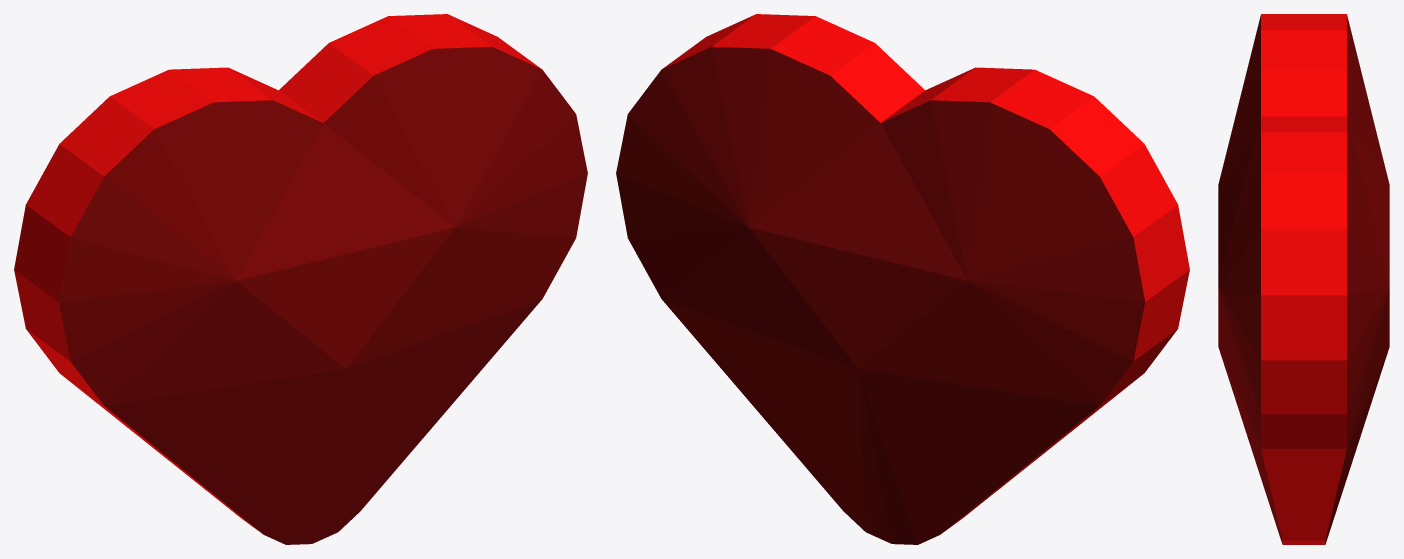
Rendered from Heart_low_poly_colored.obj.
3 renders of one model, left to right at view 1: azimuth 30°, elevation 25°; view 2: azimuth 150°, elevation 25°; view 3: azimuth 270°, elevation 25°, orthographic. The views are drawn at different scales.
Visible parts, largest first — view 1: base_Cube; view 2: base_Cube; view 3: base_Cube.
Part boxes in pixels (x1=…): base_Cube: x1=14, y1=14, x2=587, y2=544; base_Cube: x1=616, y1=14, x2=1189, y2=544; base_Cube: x1=1218, y1=14, x2=1389, y2=544.
Size of the model in its own units: 3.41 by 2.94 by 1.
1 material, 1 textured.
